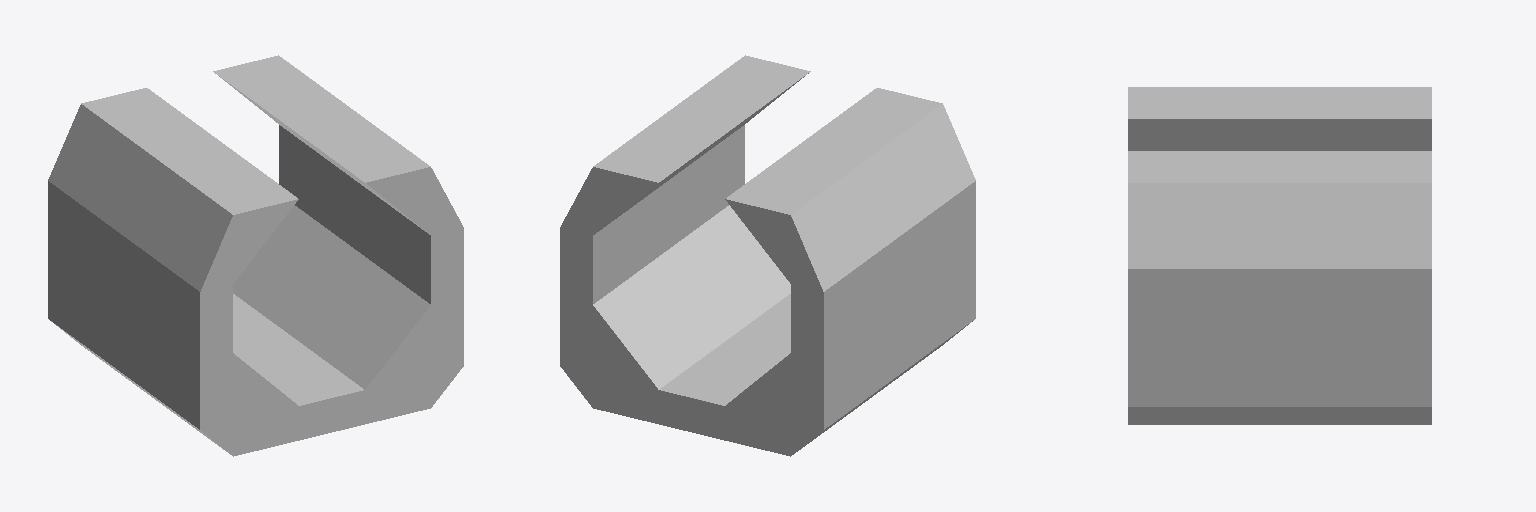
File: UVExperiments.obj
The picture shows the model from 3 angles: view 1: azimuth 30°, elevation 25°; view 2: azimuth 150°, elevation 25°; view 3: azimuth 270°, elevation 25°; orthographic projection.
Parts seen in each view (by area): view 1: Plane; view 2: Plane; view 3: Plane.
Boxes of the visible parts, x1=… form: Plane: x1=48, y1=55, x2=463, y2=456; Plane: x1=560, y1=55, x2=975, y2=456; Plane: x1=1128, y1=87, x2=1431, y2=424.
Size of the model in its own units: 8 by 7 by 8.